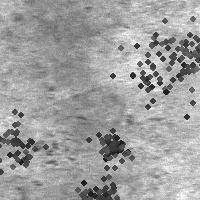rolled-in_scale: (96, 4, 200, 120), (15, 120, 81, 192), (0, 103, 51, 179), (160, 17, 200, 87), (84, 120, 136, 172), (66, 164, 136, 200)
